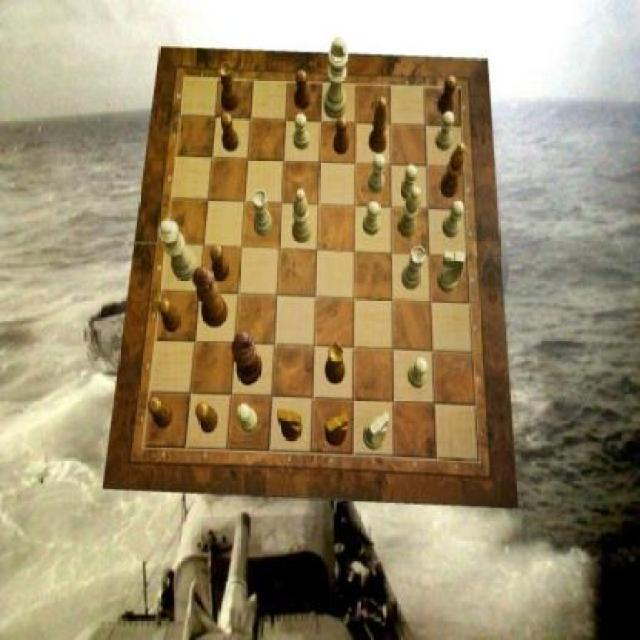bishop: (440, 142, 466, 198), (368, 99, 388, 154)
black-bishop: (232, 331, 263, 385)
black-king: (324, 412, 348, 447), (277, 408, 301, 442)
black-knight: (158, 298, 182, 332), (149, 397, 174, 429), (438, 77, 458, 117), (197, 401, 220, 434), (220, 114, 239, 152), (211, 244, 231, 280), (294, 71, 310, 111), (332, 117, 348, 155)
black-pawn: (192, 265, 228, 327)
black-queen: (218, 63, 240, 112), (326, 343, 346, 385)
black-rook: (398, 188, 422, 238), (292, 189, 312, 243)
white-bishop: (325, 37, 349, 118)
white-king: (439, 251, 466, 293), (363, 412, 390, 450)
white-knight: (441, 200, 464, 238), (436, 111, 454, 151), (368, 155, 385, 194), (400, 164, 418, 200), (408, 357, 428, 388), (363, 202, 381, 236), (294, 112, 310, 150), (237, 405, 258, 432)
white-pawn: (158, 218, 198, 281)
white-queen: (402, 246, 426, 290), (254, 190, 274, 236)
